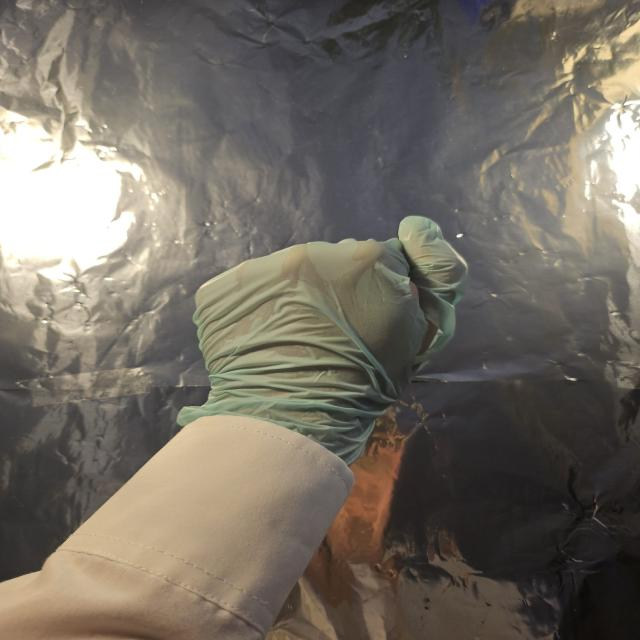gloves_damaged: (174, 214, 469, 464)
